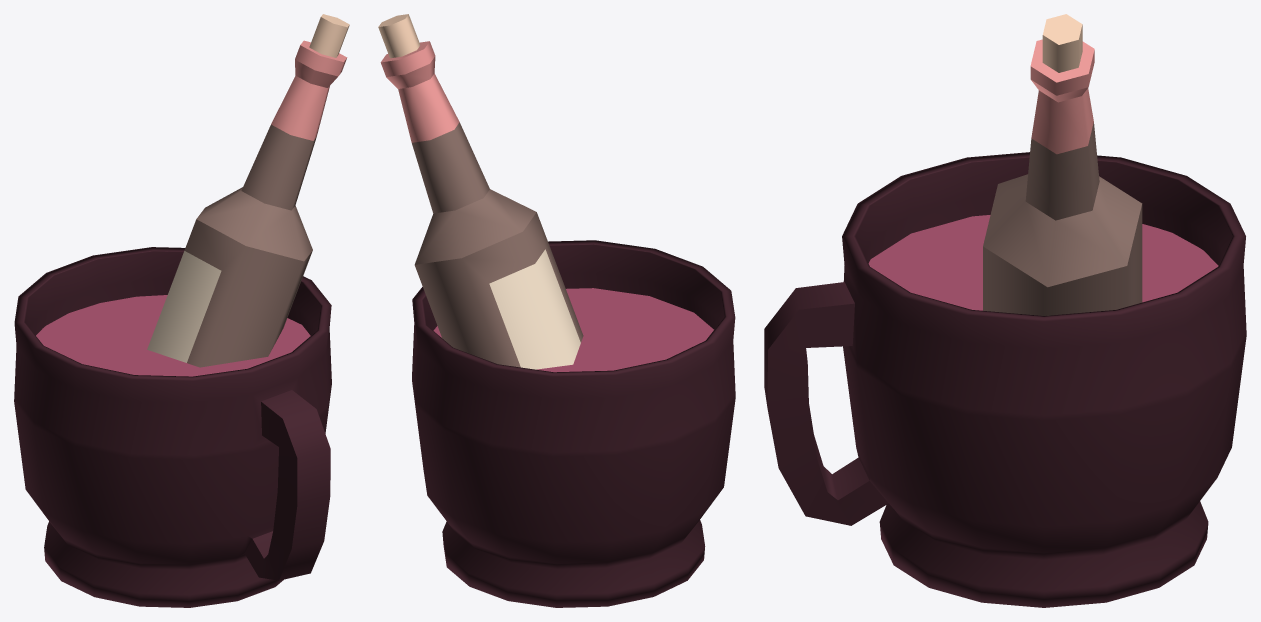
File: drink3_fermented.fbx
The picture shows the model from 3 angles, left to right: view 1: azimuth 30°, elevation 25°; view 2: azimuth 150°, elevation 25°; view 3: azimuth 270°, elevation 25°; orthographic projection. The views are drawn at different scales.
Visible parts, largest first — view 1: nurbsToPoly1, wineRed, pDisc1; view 2: nurbsToPoly1, wineRed, pDisc1; view 3: nurbsToPoly1, wineRed, pDisc1.
Boxes of the visible parts, bbox=[...] form: nurbsToPoly1: bbox=[14, 247, 331, 607]; wineRed: bbox=[147, 14, 349, 367]; pDisc1: bbox=[36, 295, 310, 376]; nurbsToPoly1: bbox=[412, 240, 735, 607]; wineRed: bbox=[378, 14, 583, 369]; pDisc1: bbox=[433, 288, 713, 372]; nurbsToPoly1: bbox=[764, 152, 1246, 607]; wineRed: bbox=[983, 14, 1142, 315]; pDisc1: bbox=[868, 215, 1218, 310].
Size of the model in its own units: 35.46 by 51.86 by 36.48.
